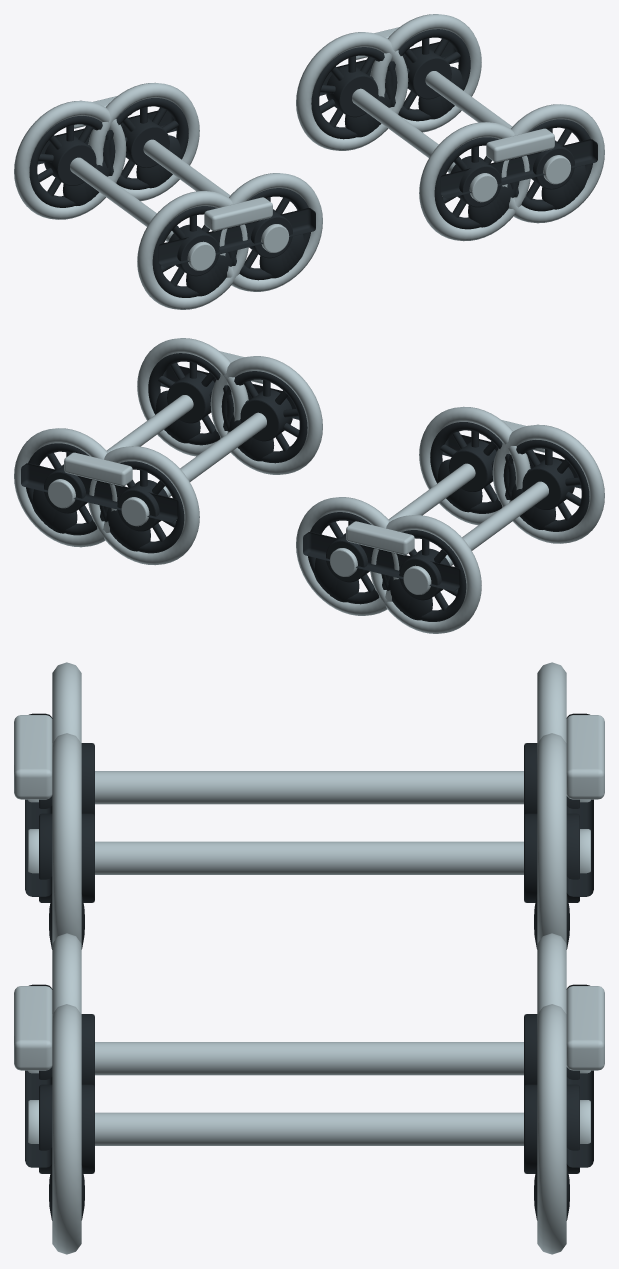
Rendered from tender-bogies.glb.
3 views of the same model, one above another, from view 1: azimuth 30°, elevation 25°; view 2: azimuth 150°, elevation 25°; view 3: azimuth 270°, elevation 25° (orthographic). The views are drawn at different scales.
Parts seen in each view (by area): view 1: Tender 3 1 steel tyre, Tender 1 1 steel tyre, Tender 1 -1 steel tyre, Tender 3 -1 steel tyre, Tender 2 1 steel tyre, Tender 4 1 steel tyre, Tender 4 -1 steel tyre, Tender 2 -1 steel tyre, Bogie frame, Bogie frame.001, Tender axle, Tender axle.002 (+34 smaller); view 2: Tender 1 -1 steel tyre, Tender 3 -1 steel tyre, Tender 3 1 steel tyre, Tender 1 1 steel tyre, Tender 4 -1 steel tyre, Tender 2 -1 steel tyre, Tender 4 1 steel tyre, Tender 2 1 steel tyre, Bogie frame.002, Bogie frame.003, Tender axle, Tender axle.002 (+34 smaller); view 3: Tender axle, Tender axle.001, Tender axle.002, Tender axle.003, Tender 4 -1 steel tyre, Tender 4 1 steel tyre, Tender 2 -1 steel tyre, Tender 2 1 steel tyre, Bogie spring.001, Bogie spring.003, Bogie spring, Bogie spring.002 (+16 smaller).
Boxes of the visible parts, <box> form: Tender 3 1 steel tyre: <box>296,32,408,150</box>; Tender 1 1 steel tyre: <box>14,100,126,219</box>; Tender 1 -1 steel tyre: <box>137,191,248,309</box>; Tender 3 -1 steel tyre: <box>419,122,530,241</box>; Tender 2 1 steel tyre: <box>88,82,199,201</box>; Tender 4 1 steel tyre: <box>370,14,481,132</box>; Tender 4 -1 steel tyre: <box>494,104,604,223</box>; Tender 2 -1 steel tyre: <box>212,173,322,291</box>; Bogie frame: <box>158,208,315,267</box>; Bogie frame.001: <box>440,139,597,198</box>; Tender axle: <box>70,157,173,241</box>; Tender axle.002: <box>352,88,455,173</box>; Tender 1 -1 steel tyre: <box>492,424,604,543</box>; Tender 3 -1 steel tyre: <box>210,356,322,474</box>; Tender 3 1 steel tyre: <box>88,446,199,565</box>; Tender 1 1 steel tyre: <box>370,515,481,633</box>; Tender 4 -1 steel tyre: <box>137,338,248,456</box>; Tender 2 -1 steel tyre: <box>419,406,530,525</box>; Tender 4 1 steel tyre: <box>14,428,124,547</box>; Tender 2 1 steel tyre: <box>296,497,406,615</box>; Bogie frame.002: <box>303,532,460,591</box>; Bogie frame.003: <box>21,463,178,522</box>; Tender axle: <box>445,481,548,565</box>; Tender axle.002: <box>163,412,266,497</box>; Tender axle: <box>95,771,523,804</box>; Tender axle.001: <box>95,841,523,874</box>; Tender axle.002: <box>95,1042,523,1075</box>; Tender axle.003: <box>95,1112,523,1145</box>; Tender 4 -1 steel tyre: <box>52,1004,81,1254</box>; Tender 4 1 steel tyre: <box>537,1004,566,1254</box>; Tender 2 -1 steel tyre: <box>52,733,81,943</box>; Tender 2 1 steel tyre: <box>537,733,566,943</box>; Bogie spring.001: <box>14,986,52,1070</box>; Bogie spring.003: <box>566,986,604,1070</box>; Bogie spring: <box>14,715,52,799</box>; Bogie spring.002: <box>566,715,604,799</box>.
Size of the model in its own units: 3.8 by 0.9 by 2.12.
